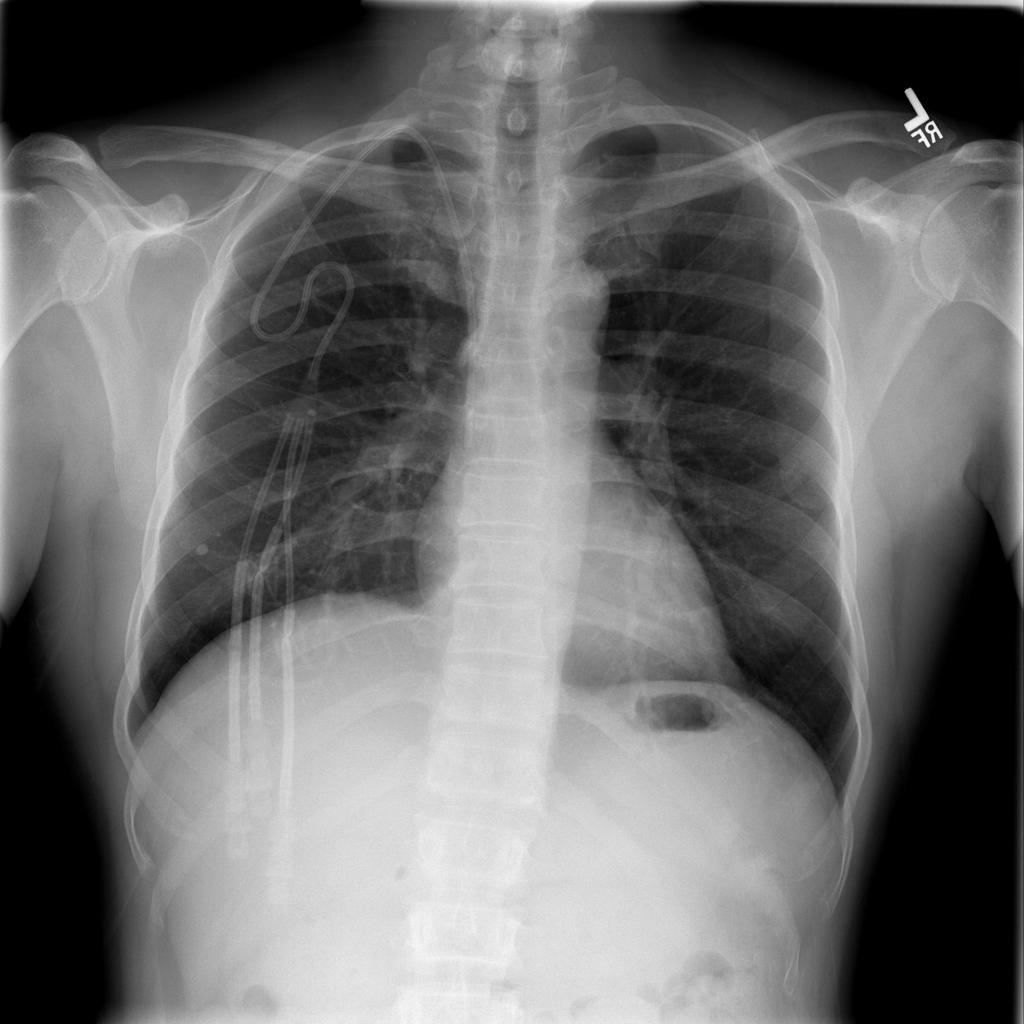nodule: (188, 536, 213, 561)
